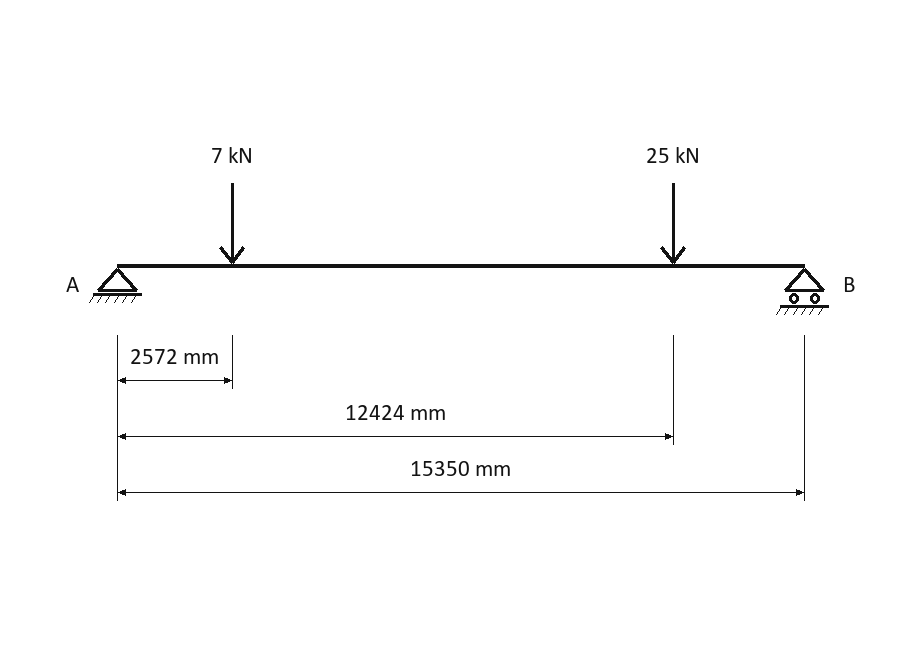pin_support: (89, 268, 142, 303)
point_load: (219, 183, 245, 264), (660, 183, 686, 264)
roller_support: (776, 268, 829, 315)
